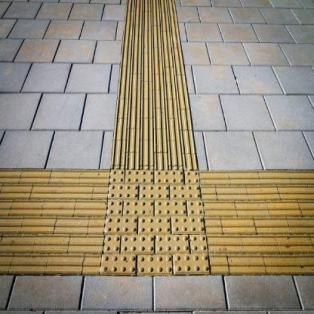Podoctatil: (0, 0, 313, 276)
